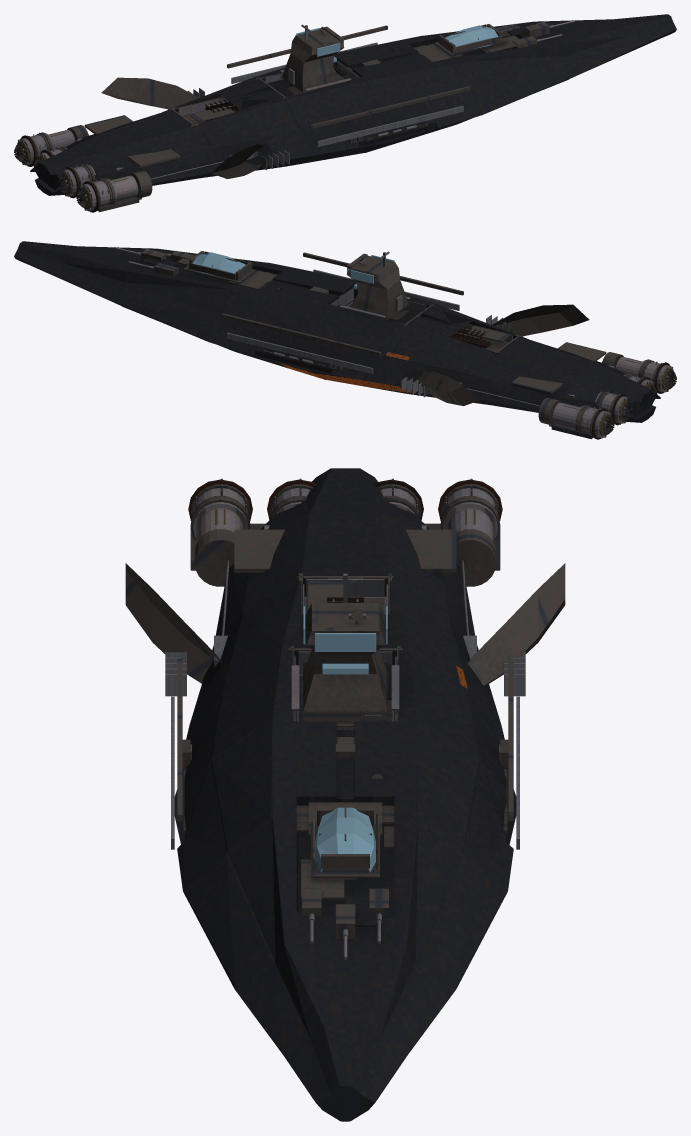
File: leviathan_production_v1_lod0.glb
The picture shows the model from 3 angles, top to bottom: view 1: azimuth 30°, elevation 25°; view 2: azimuth 150°, elevation 25°; view 3: azimuth 270°, elevation 25°; orthographic projection. The views are drawn at different scales.
Visible parts, largest first — view 1: LOD0_Hull, LOD0_Armor, LOD0_Mechanical, LOD0_Canopy, LOD0_Radiator, LOD0_Ceramic; view 2: LOD0_Hull, LOD0_Armor, LOD0_Mechanical, LOD0_Canopy, LOD0_Radiator, LOD0_Ceramic; view 3: LOD0_Hull, LOD0_Armor, LOD0_Mechanical, LOD0_Canopy, LOD0_Radiator.
Boxes of the visible parts, box(x1,y1,x2,y2) form: LOD0_Hull: box(30, 14, 676, 195); LOD0_Armor: box(14, 22, 549, 212); LOD0_Mechanical: box(17, 20, 574, 212); LOD0_Canopy: box(296, 25, 498, 62); LOD0_Radiator: box(20, 99, 240, 212); LOD0_Ceramic: box(18, 131, 127, 209); LOD0_Hull: box(14, 241, 660, 422); LOD0_Armor: box(141, 249, 676, 439); LOD0_Mechanical: box(116, 247, 673, 438); LOD0_Canopy: box(192, 252, 394, 289); LOD0_Radiator: box(450, 326, 670, 439); LOD0_Ceramic: box(563, 358, 672, 436); LOD0_Hull: box(174, 468, 516, 1121); LOD0_Armor: box(125, 484, 565, 939); LOD0_Mechanical: box(165, 478, 525, 959); LOD0_Canopy: box(303, 606, 387, 872); LOD0_Radiator: box(188, 479, 502, 602).
Size of what is drawn, in the model's own units: 26.65 by 5.16 by 8.1.
8 materials, 8 textured.
